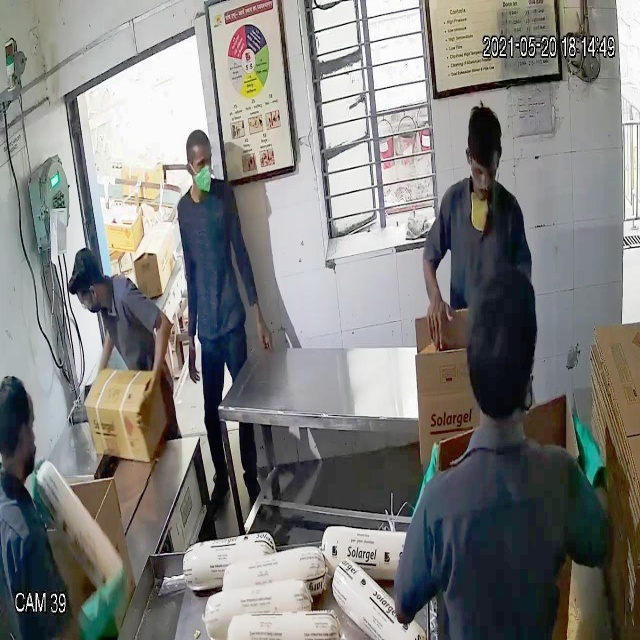Gafas: (463, 145, 504, 192)
